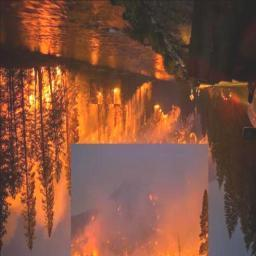Large fire: (7, 56, 203, 143)
Low smoke: (0, 148, 69, 248)
